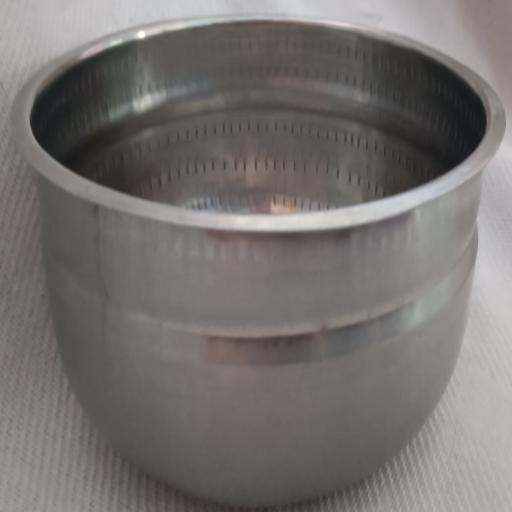vessel: (12, 17, 506, 506)
